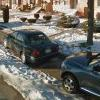Car: (3, 19, 61, 77)
